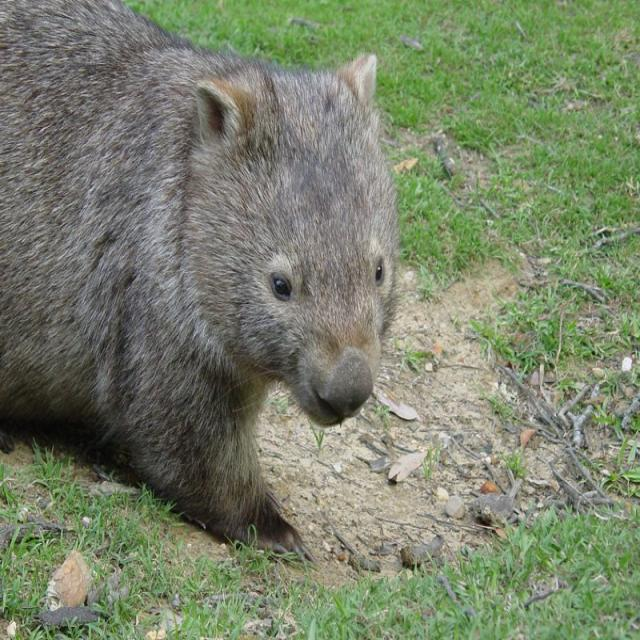Wombat: (0, 0, 416, 551)
